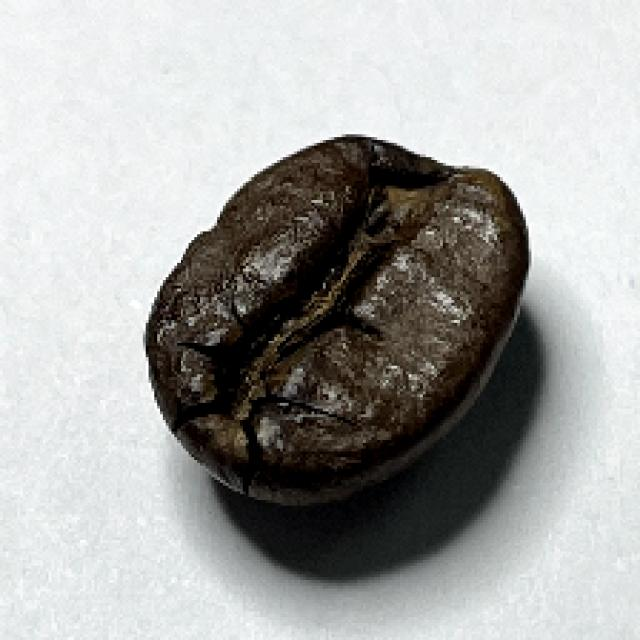bean: (142, 134, 534, 506)
